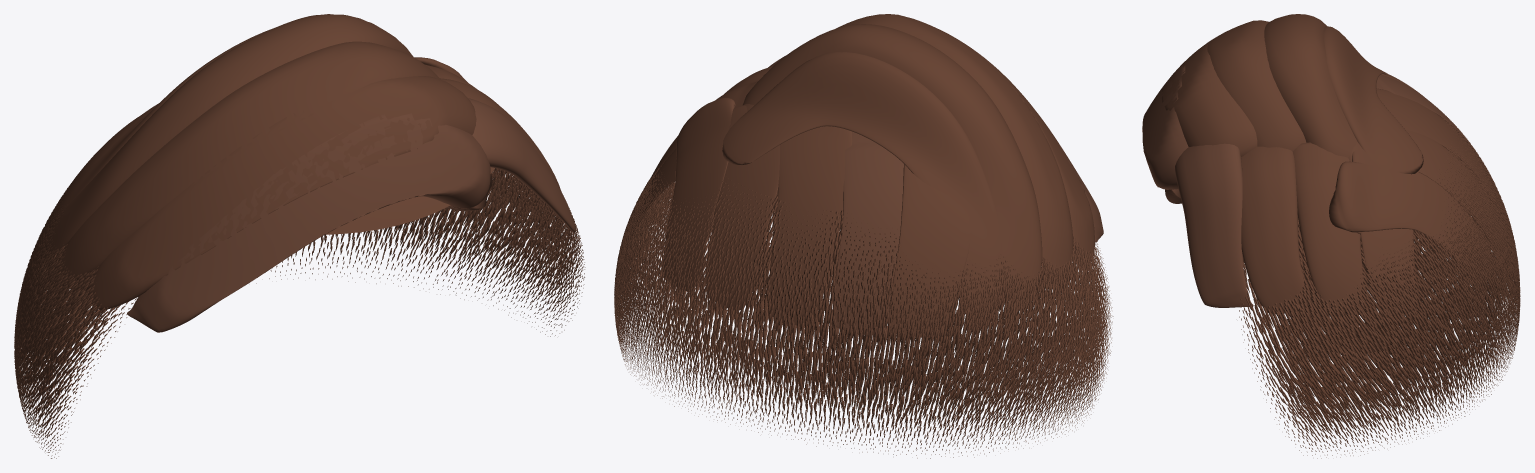
The model's file is Masculine-taper-beanie254-hair.glb.
The picture shows the model from 3 angles, left to right: view 1: azimuth 30°, elevation 25°; view 2: azimuth 150°, elevation 25°; view 3: azimuth 270°, elevation 25°; orthographic projection. The views are drawn at different scales.
Visible parts, largest first — view 1: 226 hair / Hair252 / sculpted locks, 226 hair / Hair252 / gentle tonal variation, 226 hair / Hair254 / rooted short groom; view 2: 226 hair / Hair252 / sculpted locks, 226 hair / Hair254 / rooted short groom, 226 hair / Hair252 / gentle tonal variation; view 3: 226 hair / Hair252 / sculpted locks, 226 hair / Hair254 / rooted short groom, 226 hair / Hair252 / gentle tonal variation.
Boxes of the visible parts, box(x1,y1,x2,y2) form: 226 hair / Hair252 / sculpted locks: box(36, 14, 560, 310); 226 hair / Hair252 / gentle tonal variation: box(127, 98, 575, 332); 226 hair / Hair254 / rooted short groom: box(14, 167, 585, 458); 226 hair / Hair252 / sculpted locks: box(633, 14, 1094, 337); 226 hair / Hair254 / rooted short groom: box(614, 163, 1113, 458); 226 hair / Hair252 / gentle tonal variation: box(768, 56, 1103, 335); 226 hair / Hair252 / sculpted locks: box(1161, 14, 1506, 317); 226 hair / Hair254 / rooted short groom: box(1237, 110, 1520, 458); 226 hair / Hair252 / gentle tonal variation: box(1142, 61, 1467, 307).
Size of the model in its own units: 0.9716 by 0.6881 by 0.7221.
